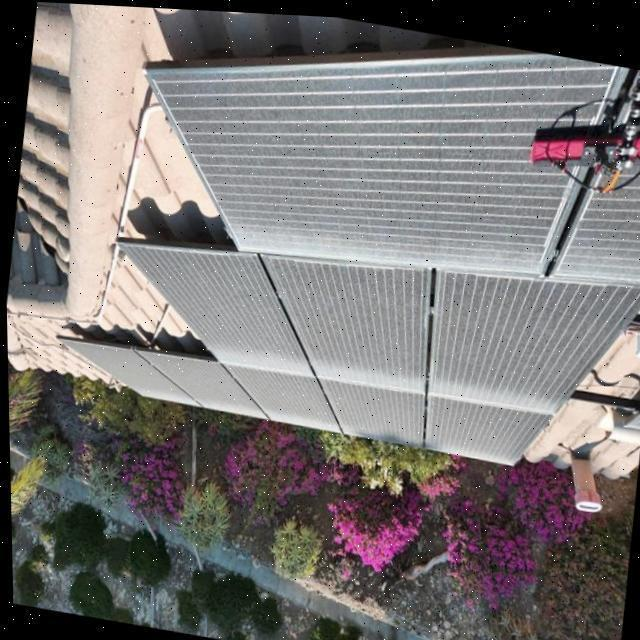Anomaly Solar Panel: (147, 49, 617, 272), (426, 265, 640, 409), (116, 243, 313, 374), (258, 251, 431, 388), (55, 338, 201, 405), (132, 349, 268, 417), (422, 390, 551, 460), (219, 361, 341, 430), (316, 375, 423, 443)
Surface Contaminant: (126, 385, 520, 462), (220, 208, 551, 270), (426, 374, 559, 408), (302, 353, 422, 389), (204, 344, 310, 375)
